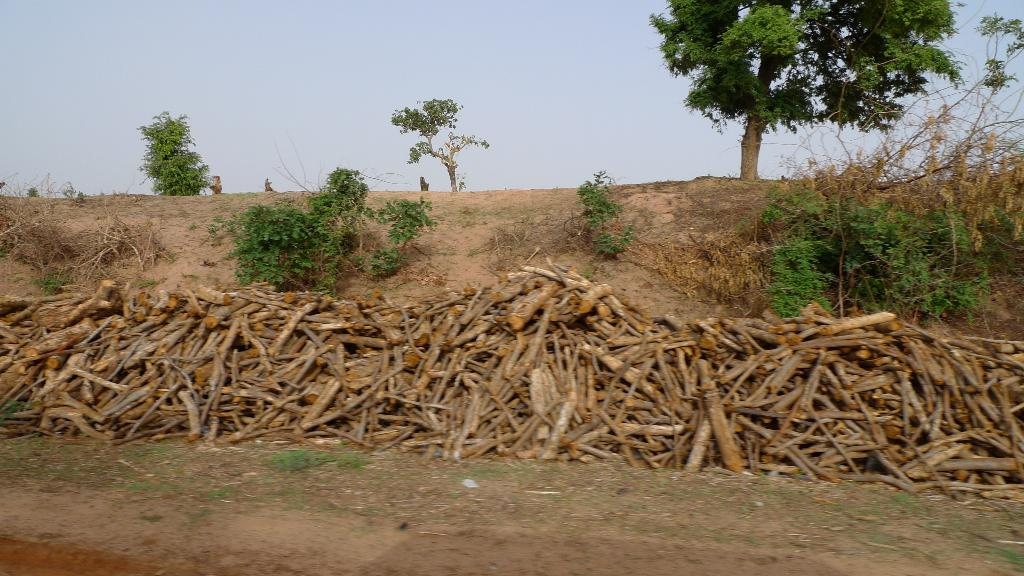Tree: (647, 0, 977, 177), (378, 81, 479, 188), (138, 110, 209, 198)
